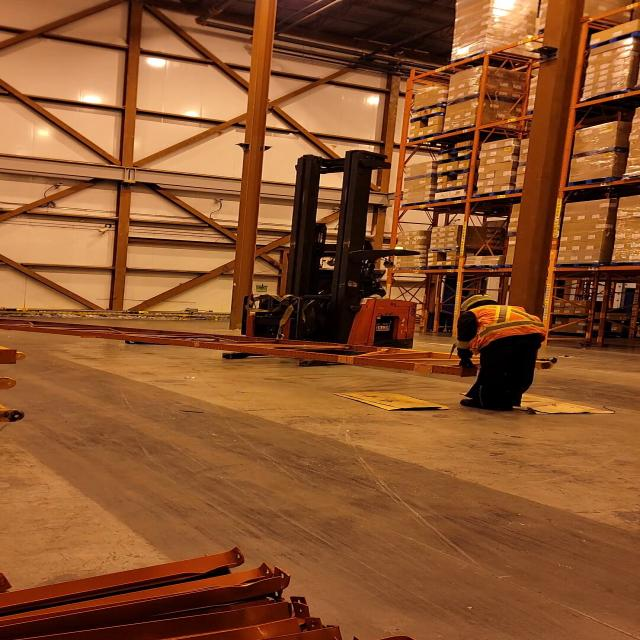forklift: (219, 156, 420, 369)
human: (445, 292, 549, 416), (312, 256, 398, 304)
objectofinterest: (0, 316, 565, 378), (459, 388, 619, 419), (334, 390, 457, 412)
